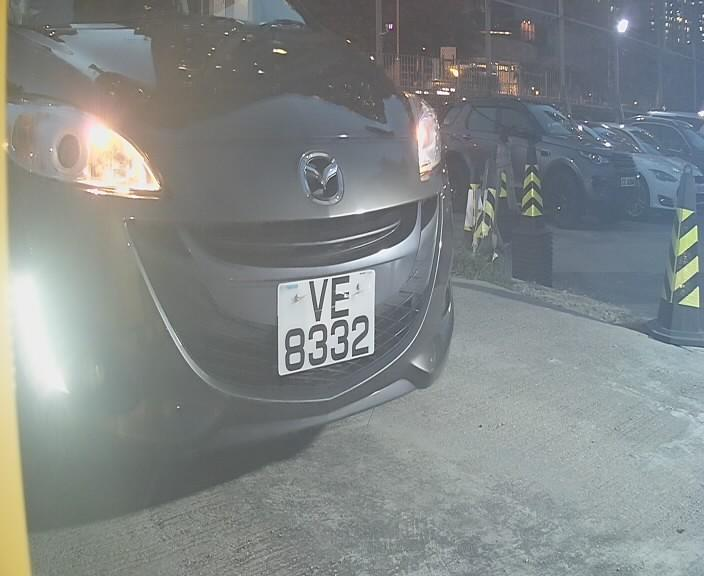Car: (10, 11, 522, 507)
License Plate: (271, 258, 381, 384)
